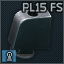PL-15 extended front sight: (0, 0, 64, 64)
